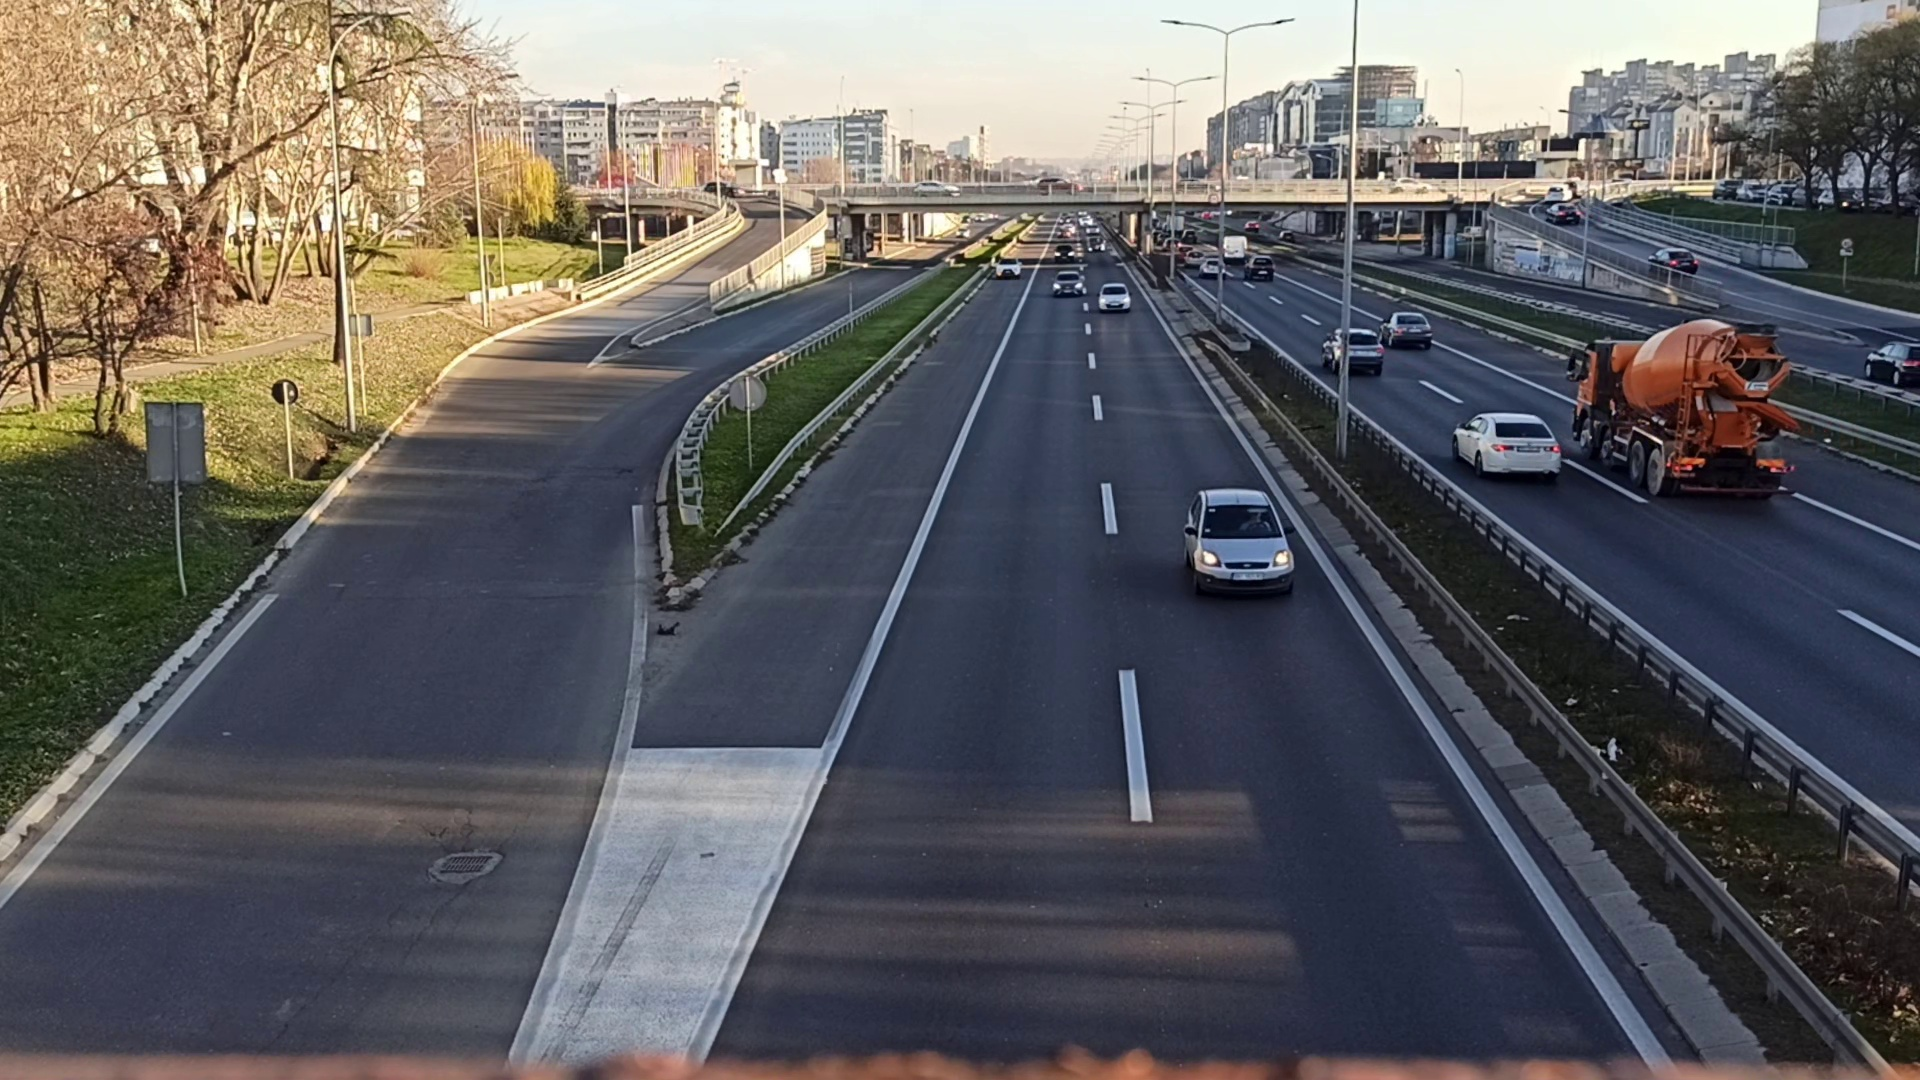car: (1184, 491, 1294, 593), (1451, 413, 1557, 477), (1321, 324, 1381, 372), (1385, 313, 1433, 349), (1098, 284, 1130, 309)
truck: (1576, 316, 1796, 509)
